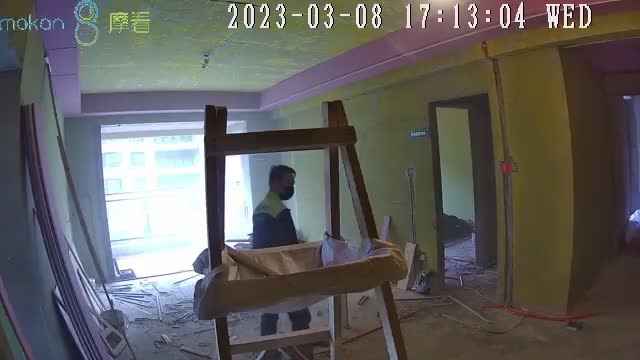people: (253, 166, 311, 360)
window: (99, 124, 255, 268)
